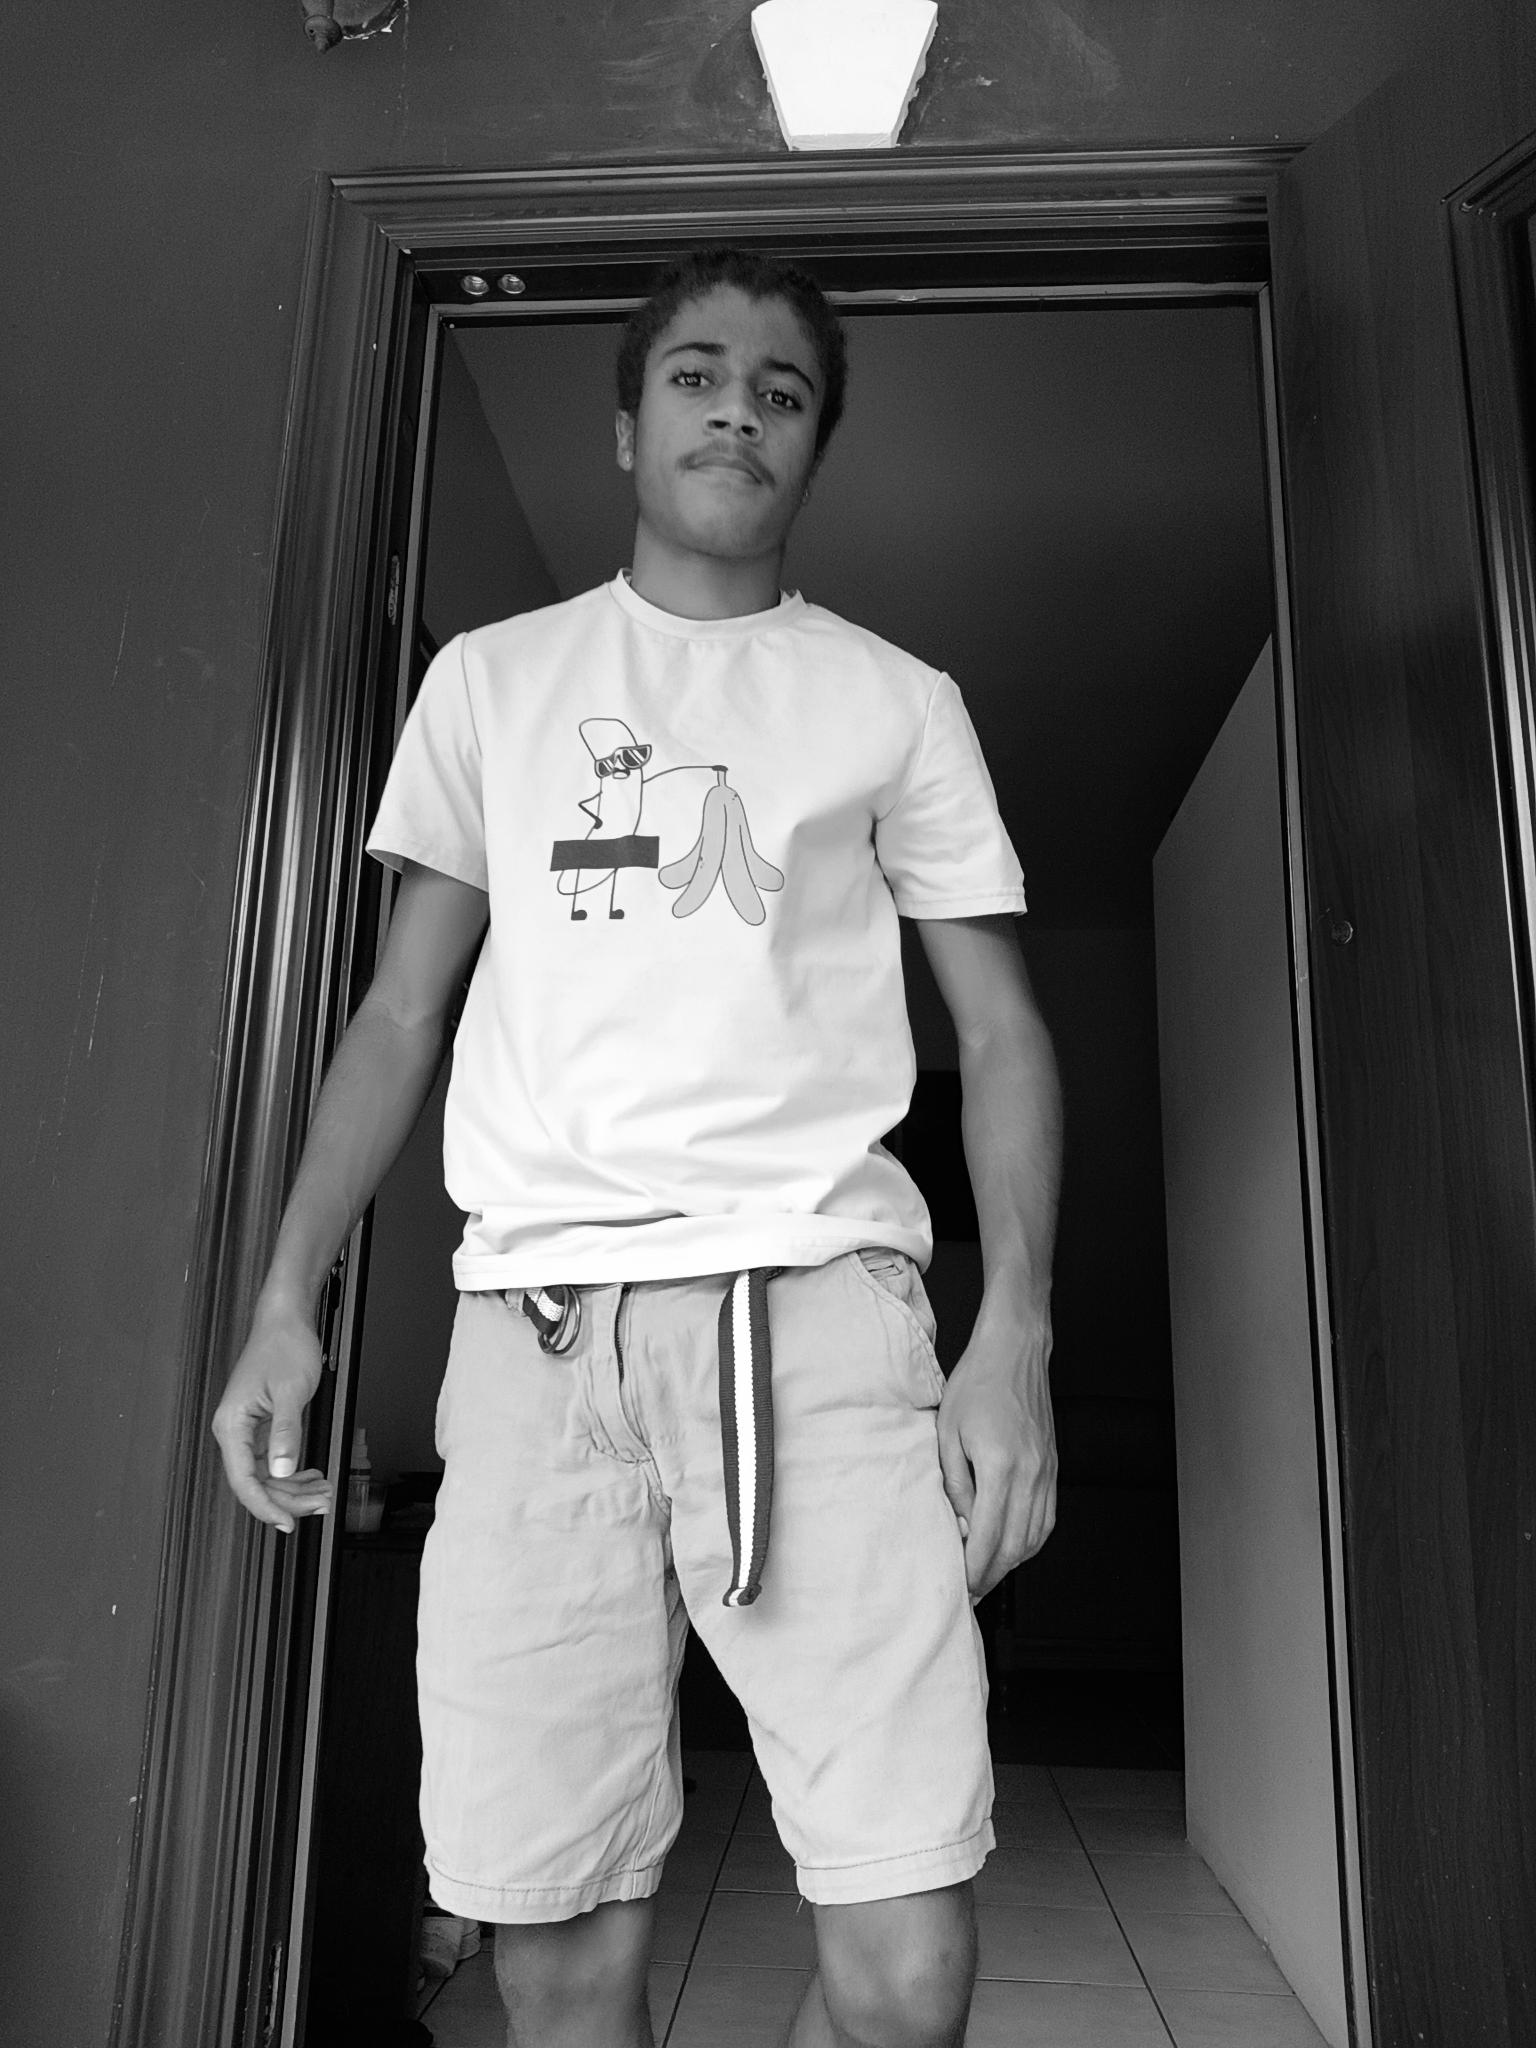front: (208, 242, 1071, 2038)
